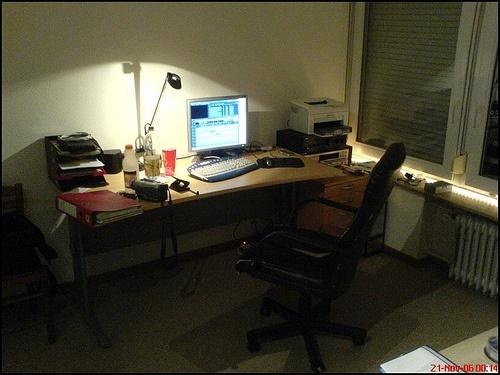chair: (235, 142, 412, 373), (1, 181, 63, 345)
tvmonitor: (183, 92, 250, 159)
